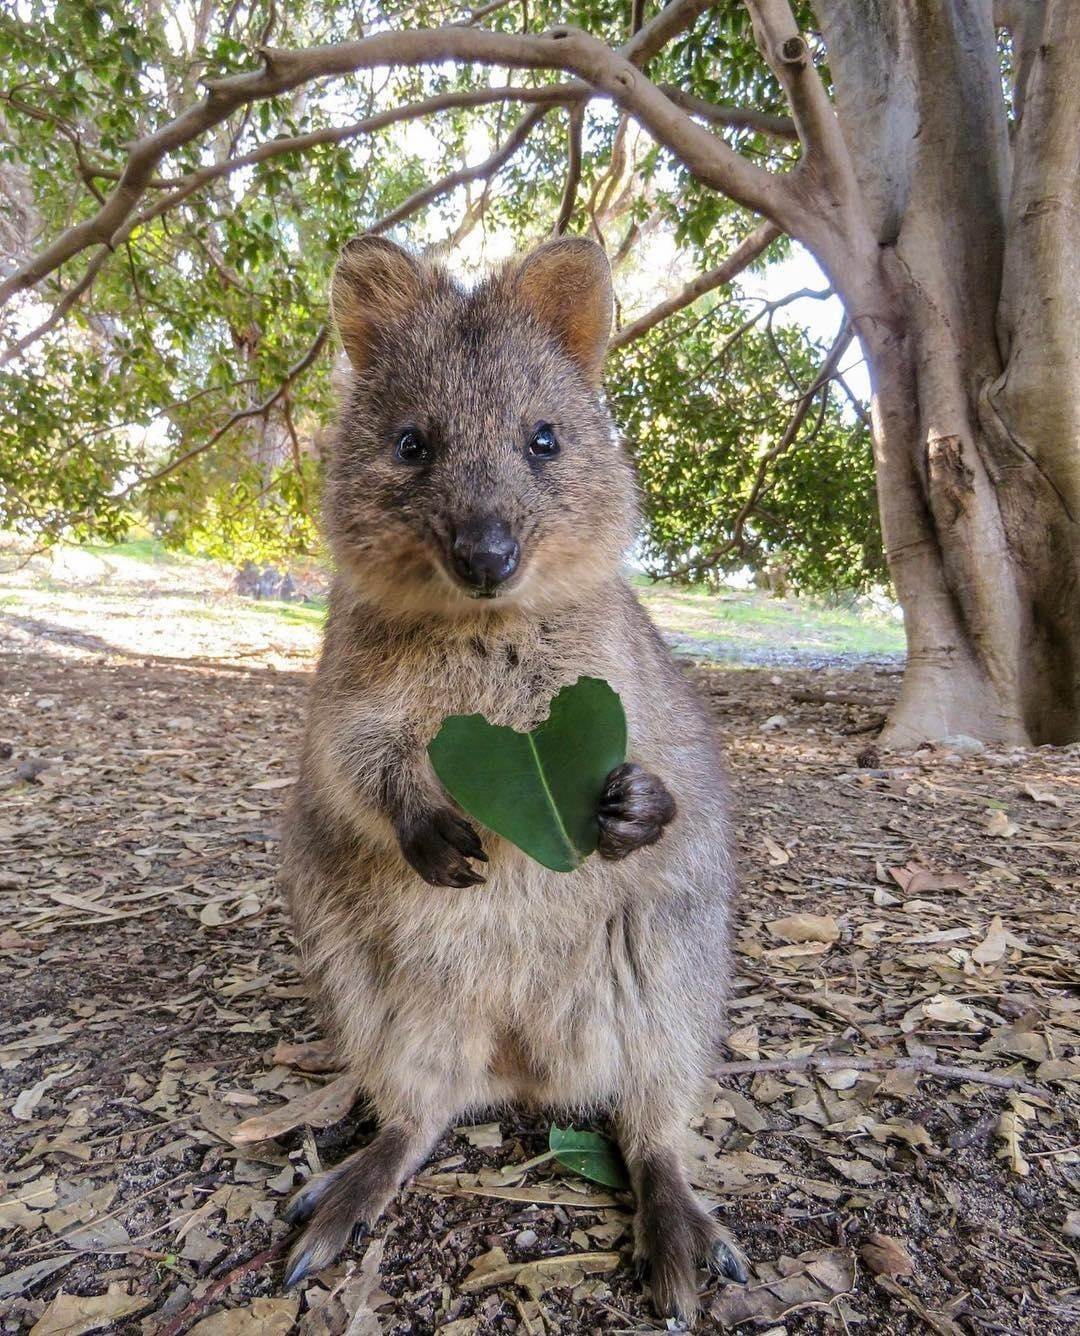quokka: (263, 168, 786, 1336)
